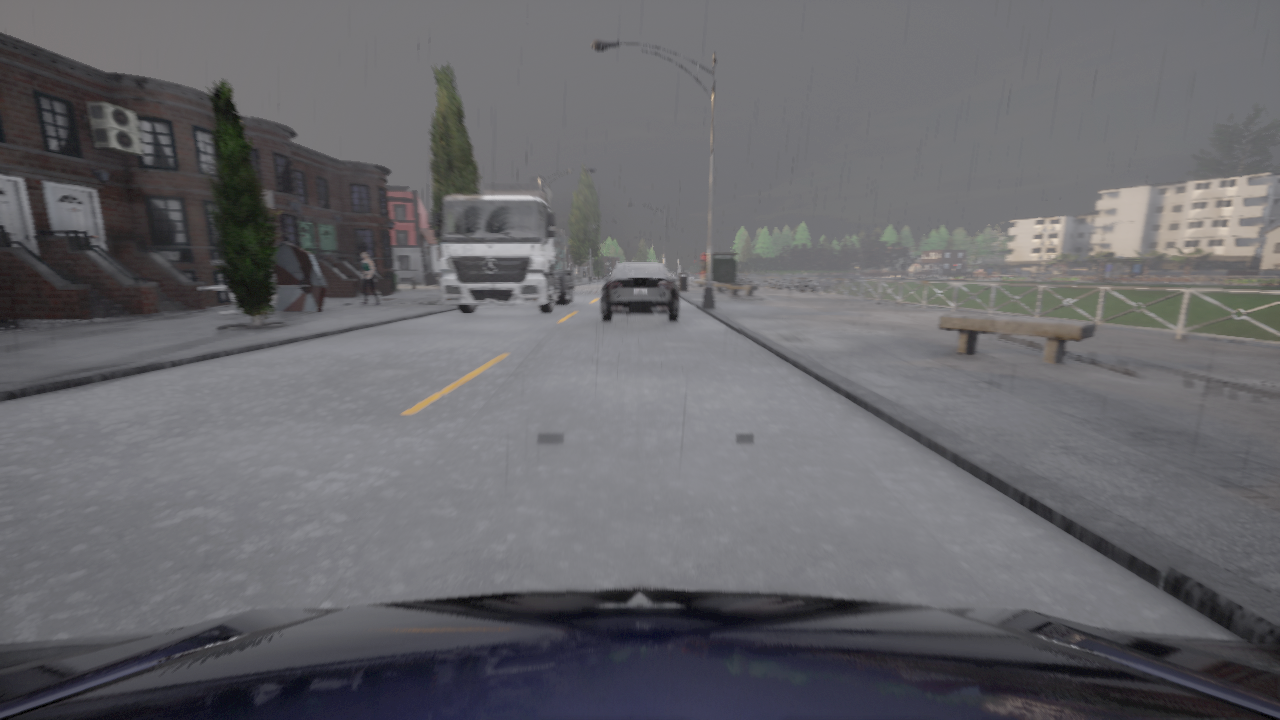cyclist: (0, 584, 1279, 719), (433, 195, 573, 313), (601, 263, 678, 320)
pedestrian: (360, 250, 380, 305)
